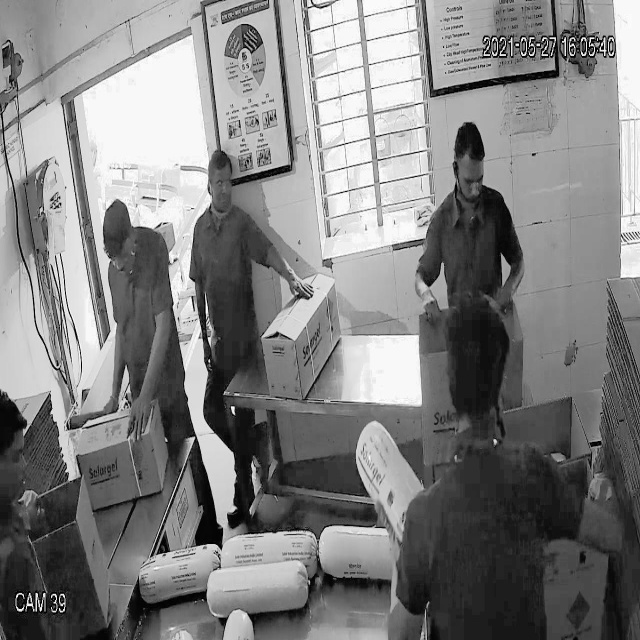Sin_gafas: (448, 156, 488, 198), (101, 240, 138, 275)
